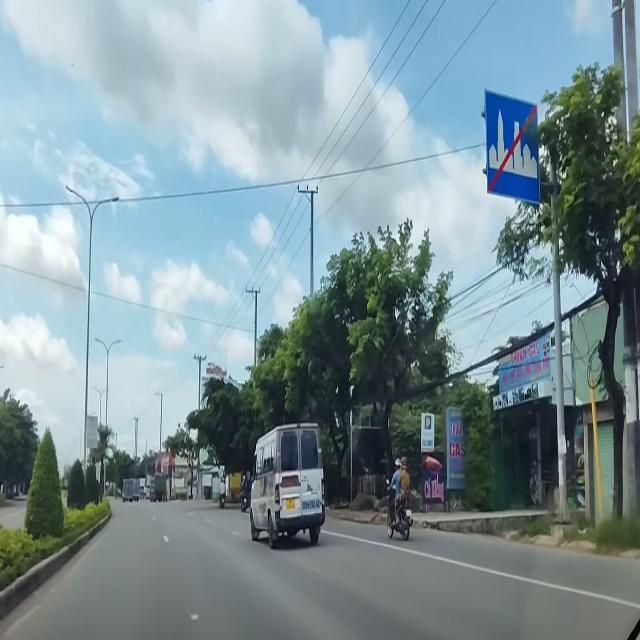Bien hieu lenh het khu dong dan cu: (481, 86, 543, 206)
